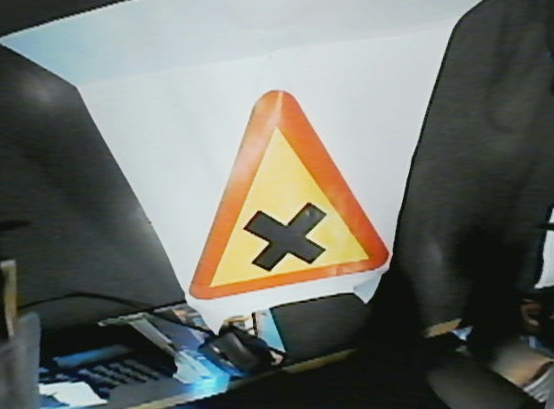junction: (174, 82, 403, 292)
